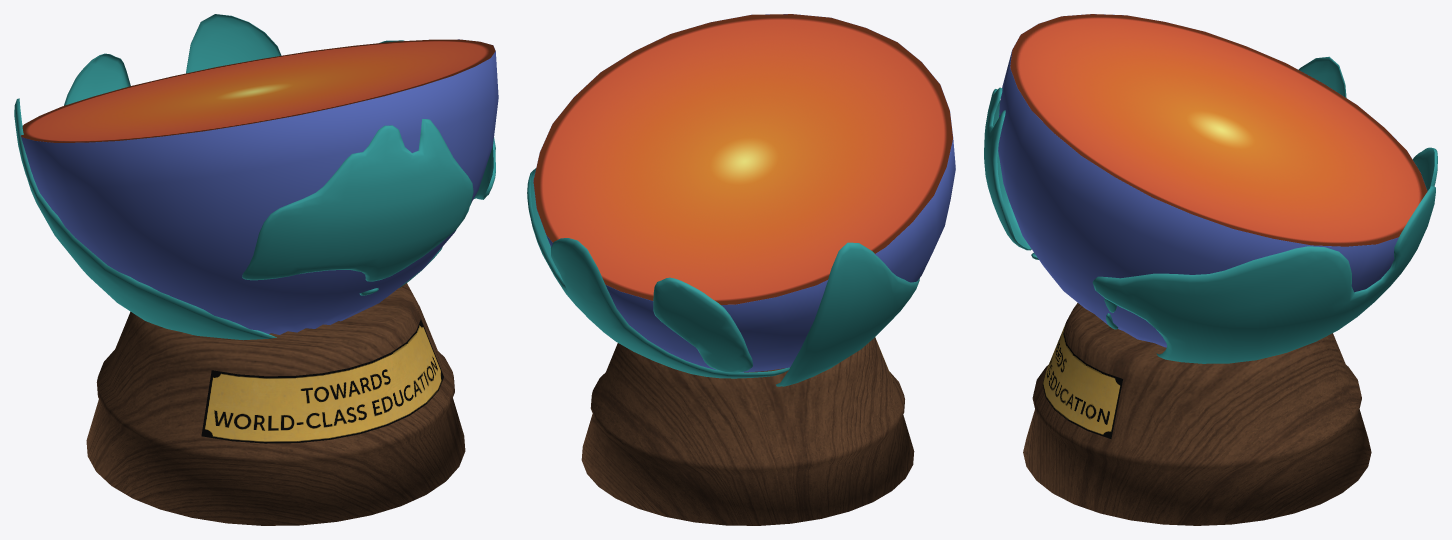
File: DFEEarthAngledVersionV1NoAnimation.gltf
3 renders of one model, left to right at view 1: azimuth 30°, elevation 25°; view 2: azimuth 150°, elevation 25°; view 3: azimuth 270°, elevation 25°, orthographic. The views are drawn at different scales.
Visible parts, largest first — view 1: Bottom, Base, AUNZ, Africa, USA, Continent; view 2: Bottom, Base, Africa, USA, Continent; view 3: Bottom, Base, USA, AUNZ, Africa, Continent.
Boxes of the visible parts, x1=… form: Bottom: x1=20, y1=39, x2=498, y2=334; Base: x1=86, y1=283, x2=465, y2=525; AUNZ: x1=242, y1=119, x2=473, y2=295; Africa: x1=14, y1=98, x2=276, y2=340; USA: x1=186, y1=14, x2=495, y2=199; Continent: x1=64, y1=53, x2=130, y2=105; Bottom: x1=533, y1=14, x2=955, y2=372; Base: x1=581, y1=337, x2=914, y2=525; Africa: x1=776, y1=242, x2=919, y2=386; USA: x1=527, y1=168, x2=789, y2=378; Continent: x1=653, y1=277, x2=752, y2=372; Bottom: x1=998, y1=14, x2=1427, y2=347; Base: x1=1023, y1=303, x2=1371, y2=525; USA: x1=1092, y1=186, x2=1435, y2=363; AUNZ: x1=984, y1=87, x2=1118, y2=329; Africa: x1=1297, y1=56, x2=1346, y2=97; Continent: x1=1413, y1=147, x2=1437, y2=190.
Bounding box in the file's own units: 52.39 × 50.35 × 53.38.
5 materials, 3 textured.
